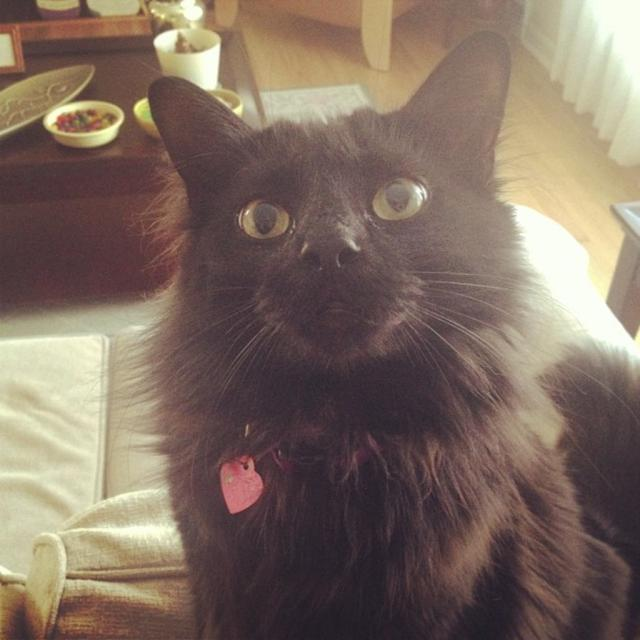Cat: (87, 28, 639, 640)
